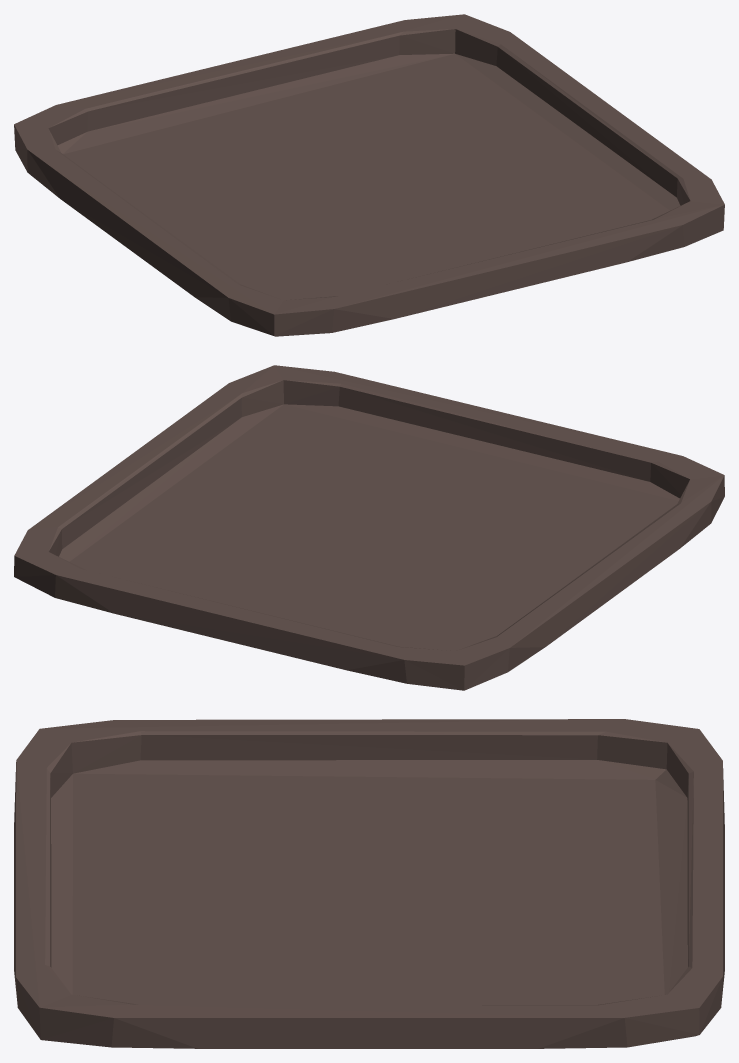
Rendered from salt-pond-empty.obj.
3 renders of one model, top to bottom at view 1: azimuth 30°, elevation 25°; view 2: azimuth 150°, elevation 25°; view 3: azimuth 270°, elevation 25°, orthographic. The views are drawn at different scales.
Parts seen in each view (by area): view 1: Plane; view 2: Plane; view 3: Plane.
Part boxes in pixels (left/top/right/bottom): Plane: left=14, top=14, right=724, bottom=336; Plane: left=14, top=365, right=724, bottom=690; Plane: left=14, top=719, right=724, bottom=1048.
Size of the model in its own units: 2 by 0.1023 by 2.
